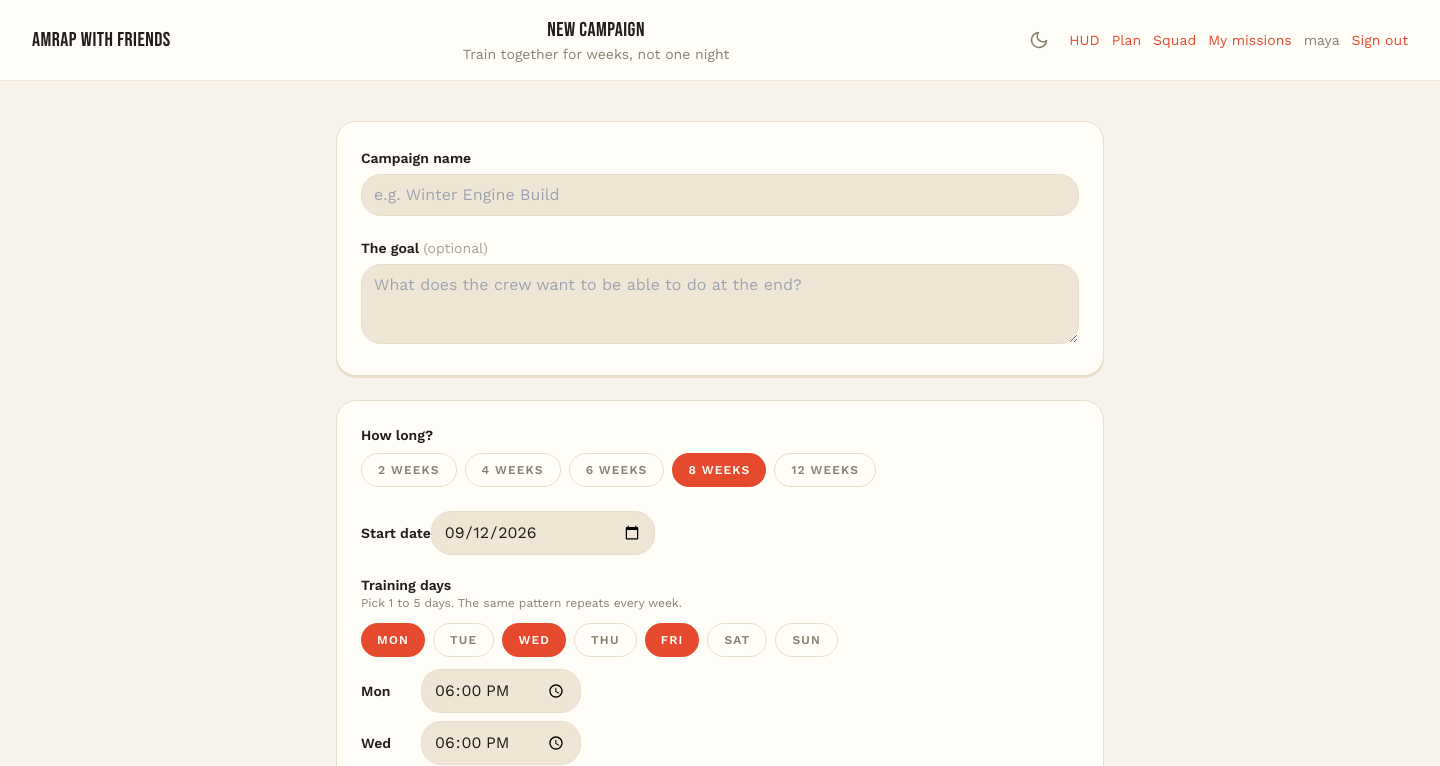
Test: CreateCampaignPage › asks for a training day rather than previewing an impossible plan
The image size is (1440, 766).
Click the button "Mon".
click(393, 640)  # box [361,623,425,657]
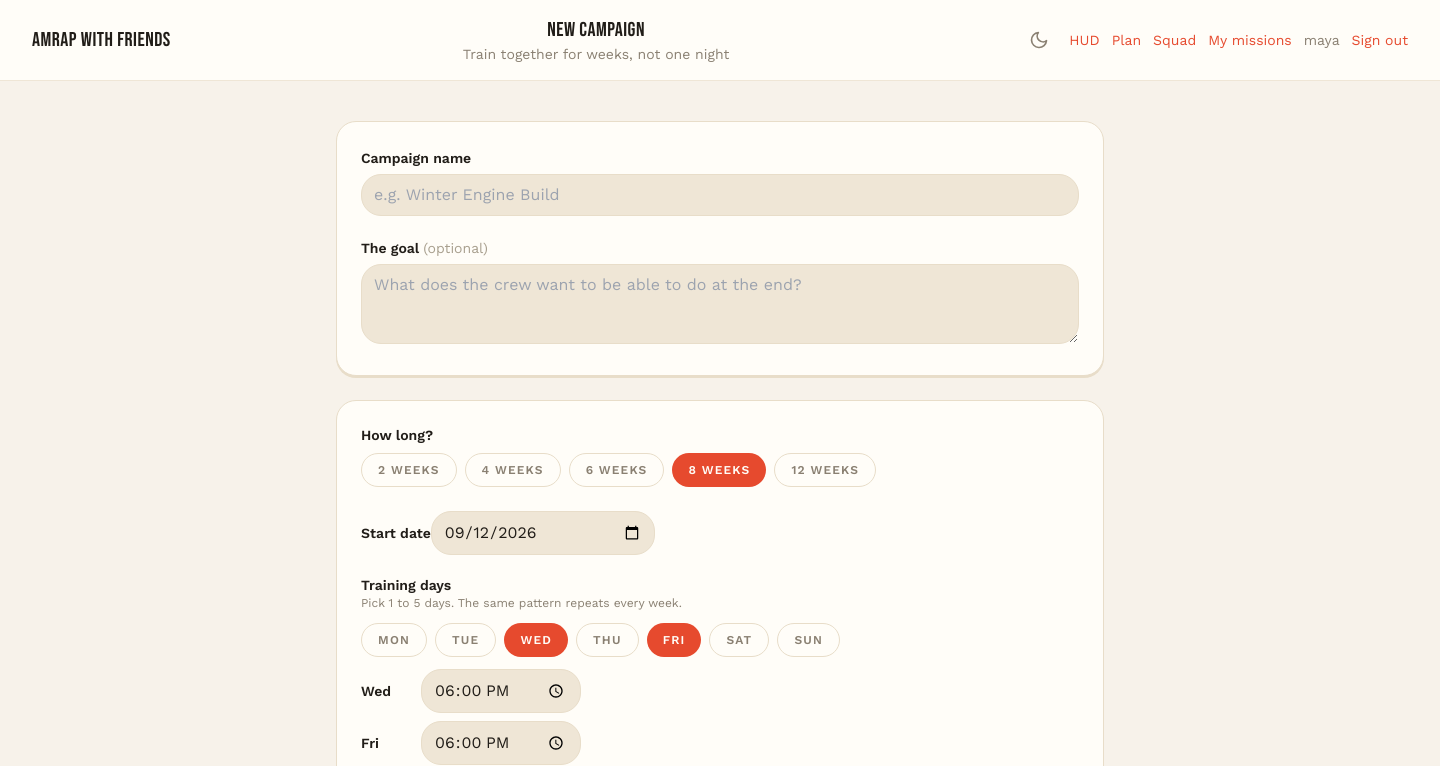
Click the button "Wed".
click(536, 640)  # box [504,623,568,657]
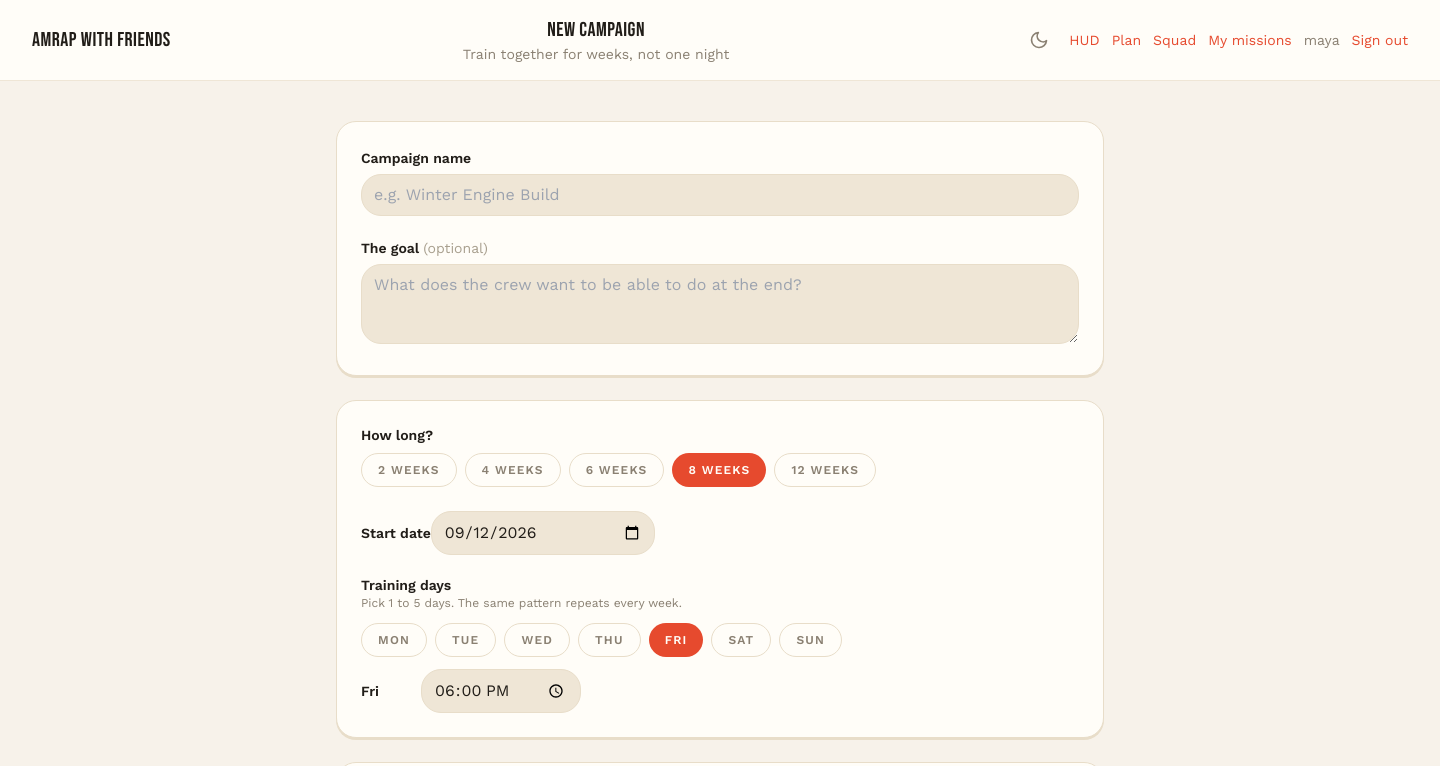
Click the button "Fri".
click(676, 640)  # box [649,623,703,657]
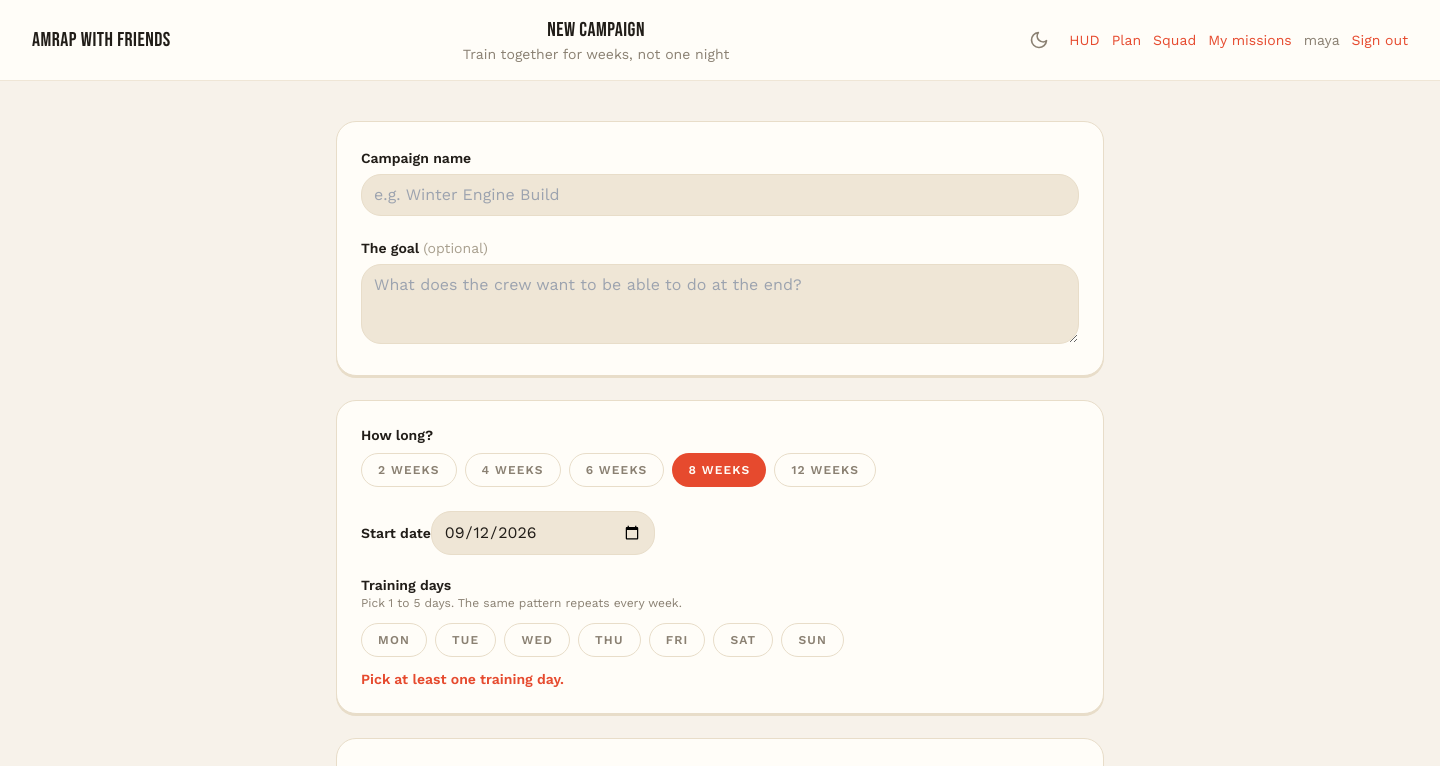
Now the text "Pick at least one training day." is shown, box [361,671,564,687]
